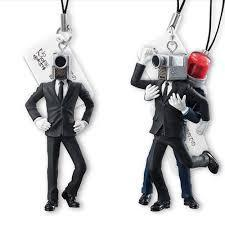no more kid: (152, 50, 190, 83)
